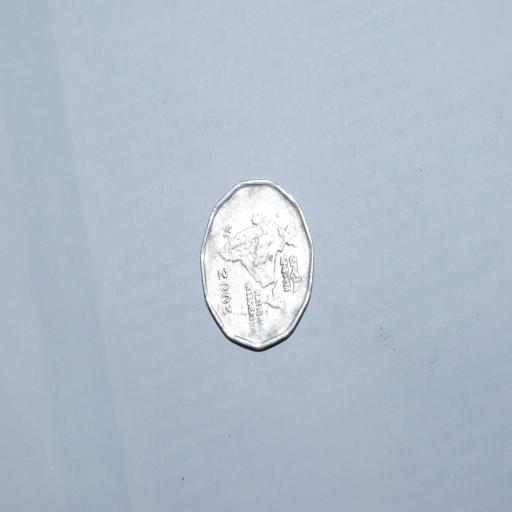rupee2: (194, 174, 318, 357)
